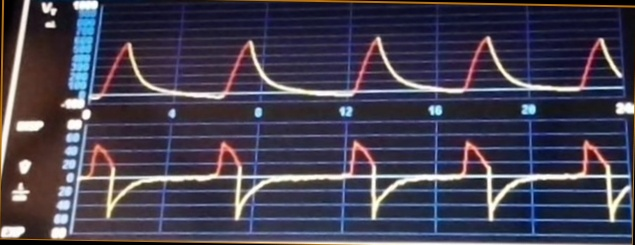Normal Flow: (81, 137, 628, 226)
Normal Volume: (92, 25, 625, 100)
